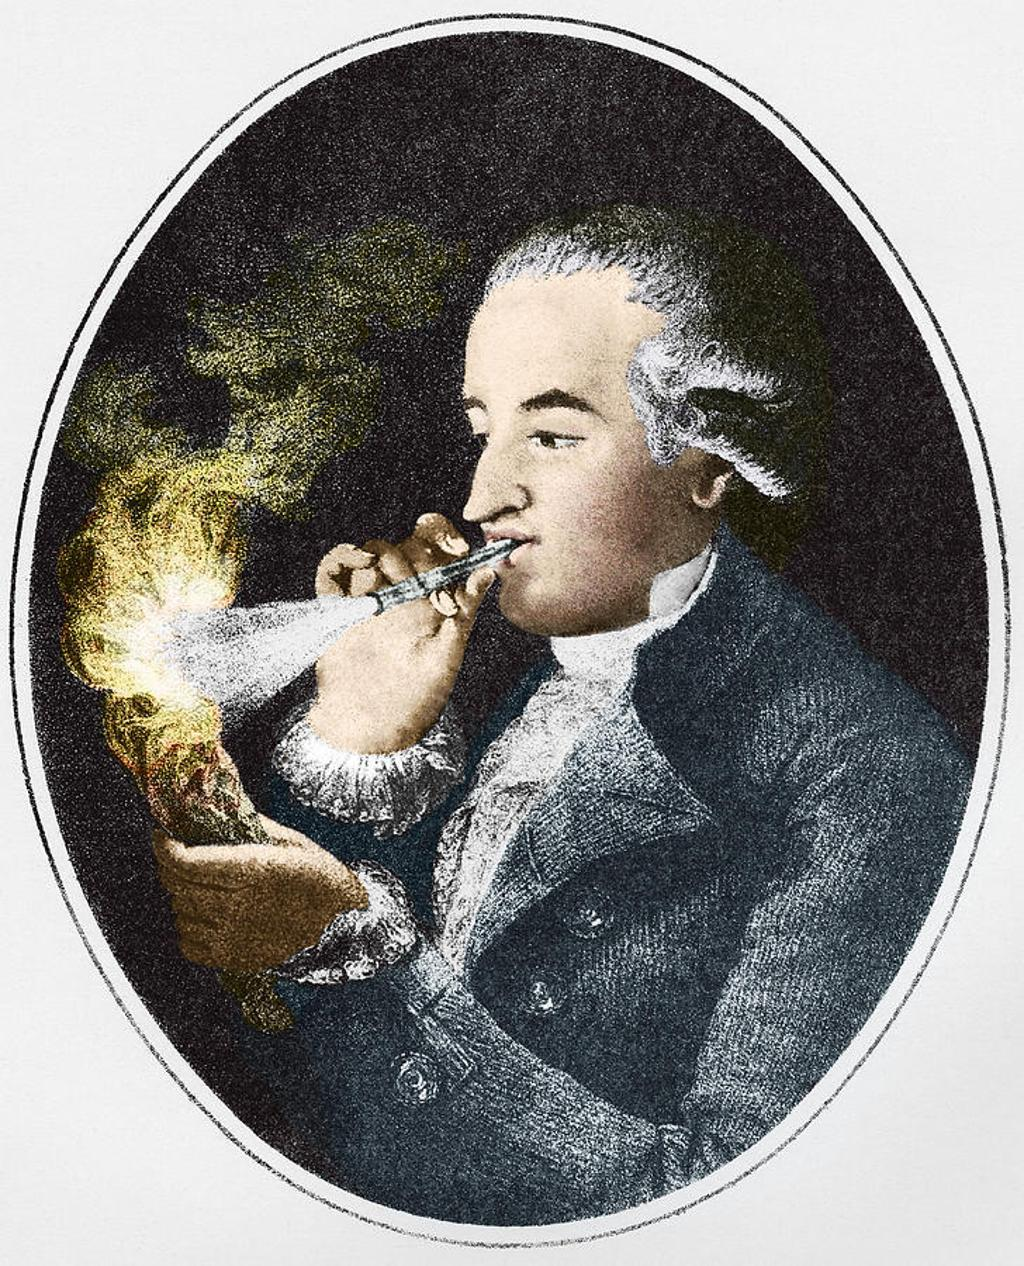face: (471, 276, 689, 632)
